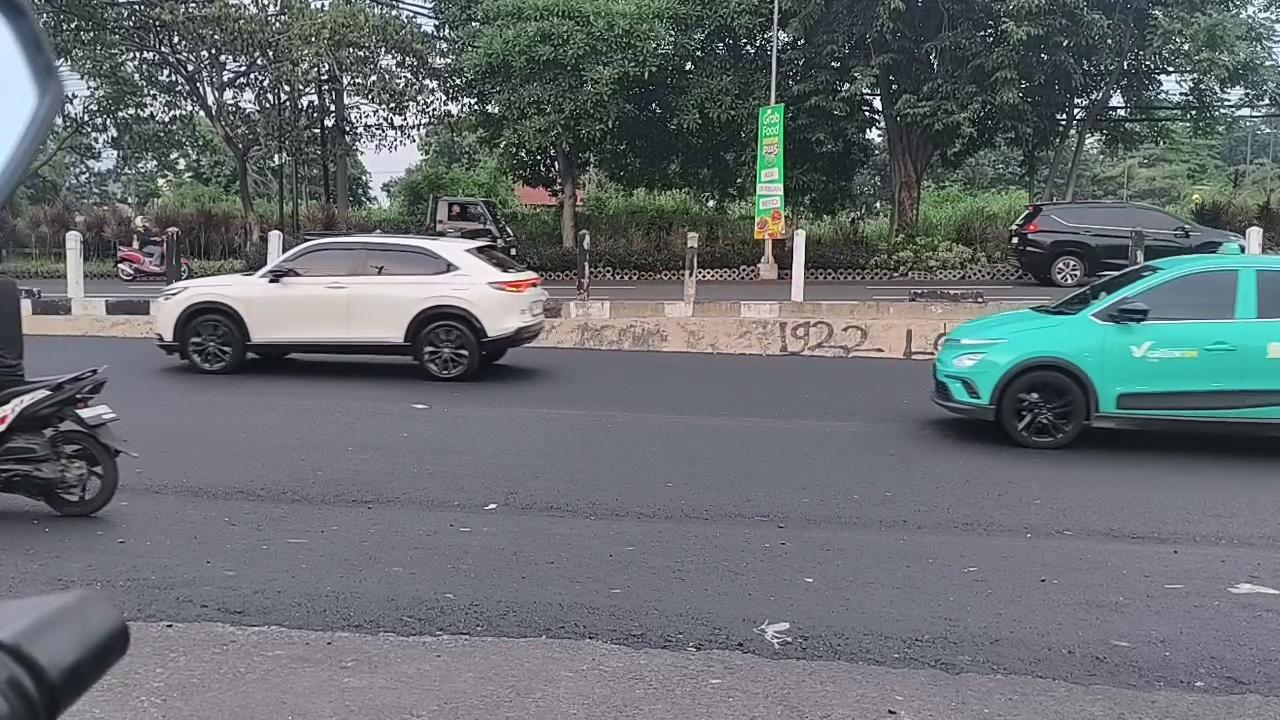Motor: (0, 367, 133, 515), (116, 246, 166, 281)
